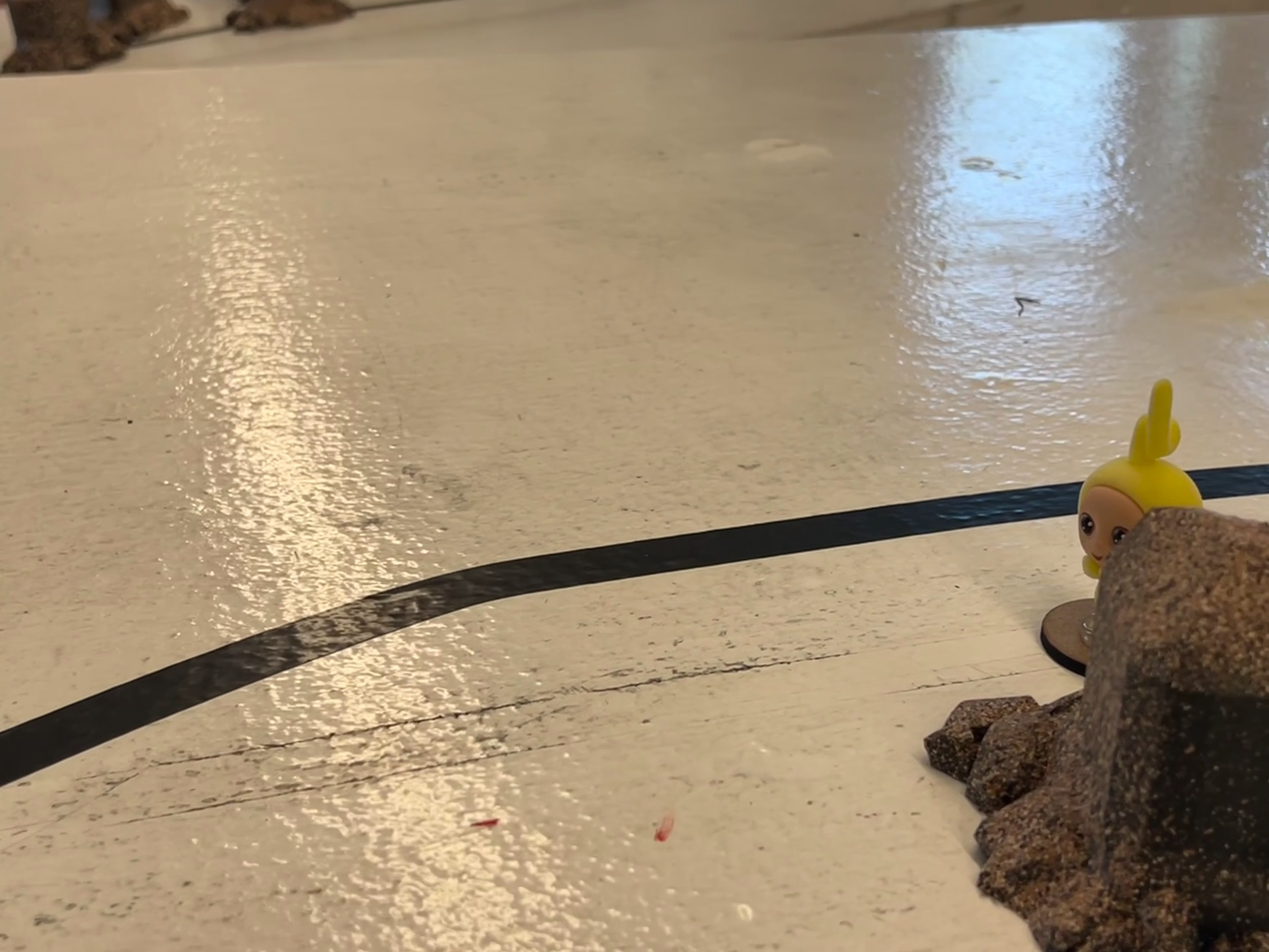teletubby: (1077, 379, 1203, 580)
